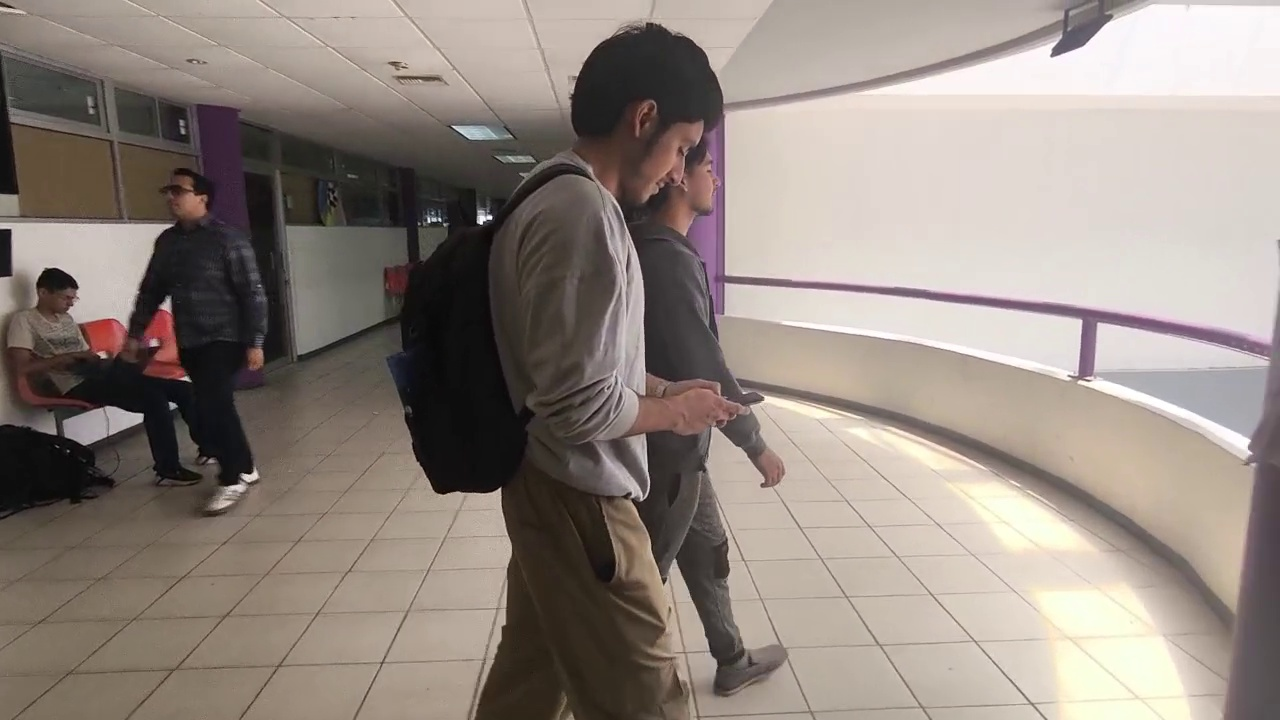mixto2: (716, 383, 770, 414)
